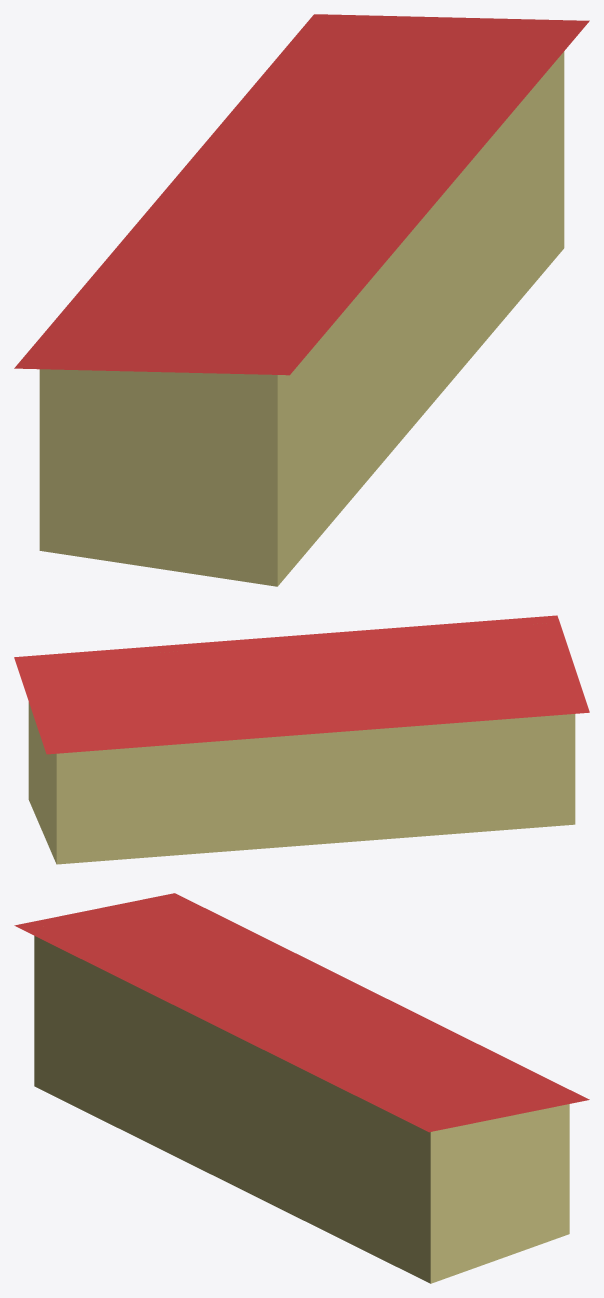
3 views of the same model, one above another, from view 1: azimuth 30°, elevation 25°; view 2: azimuth 150°, elevation 25°; view 3: azimuth 270°, elevation 25° (orthographic). The views are drawn at different scales.
Size of the model in its own units: 32.29 by 29.72 by 9.12.
